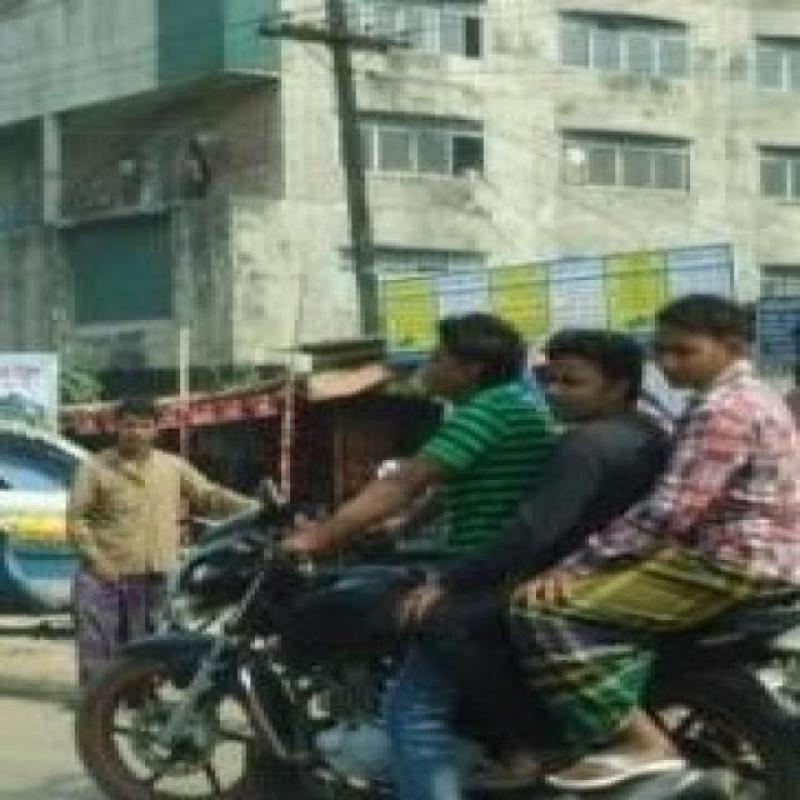nohelmet: (407, 288, 538, 401), (632, 289, 766, 399)
